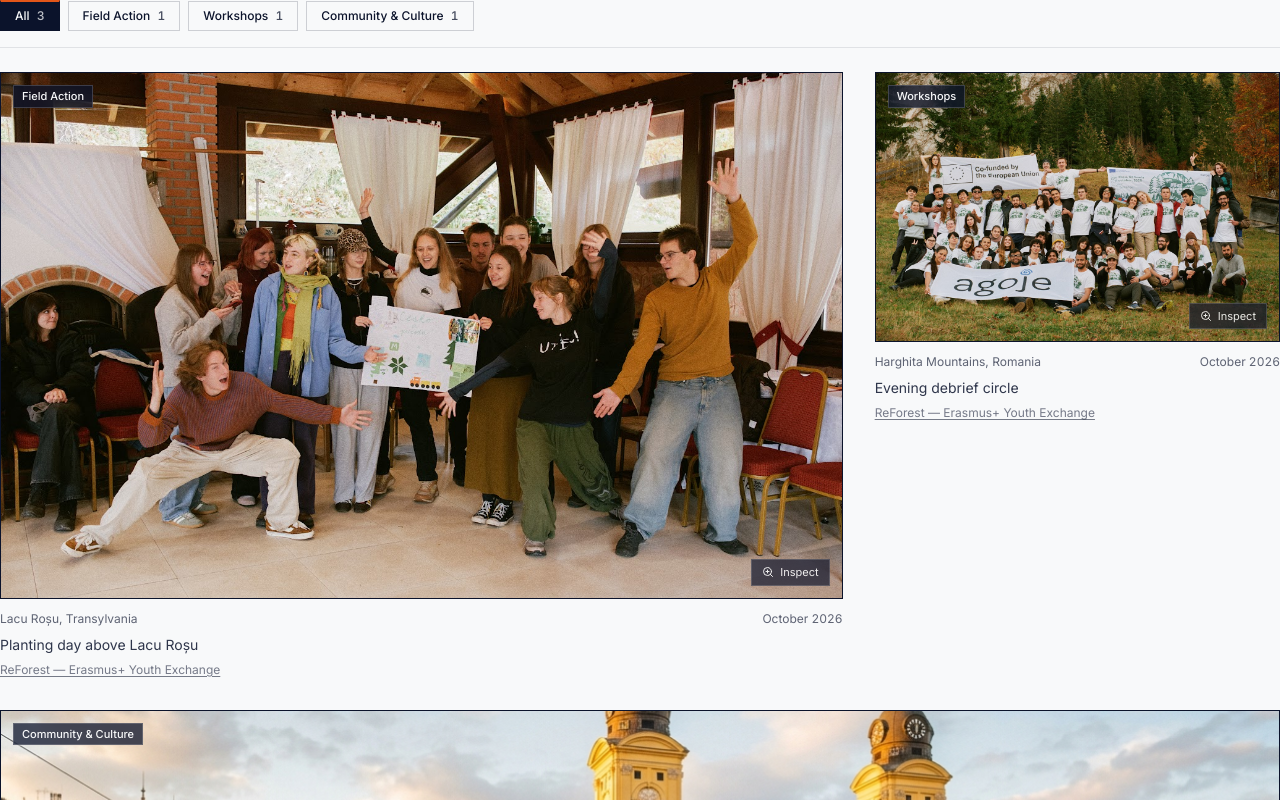
Test: Projects Partition Components › PhotoGalleryGrid › opens lightbox dialog on photo click and supports next/previous navigation
Click the button with aria-label "inspect photo: planting day above lacu roșu" at (421, 335), box [0,72,843,599]
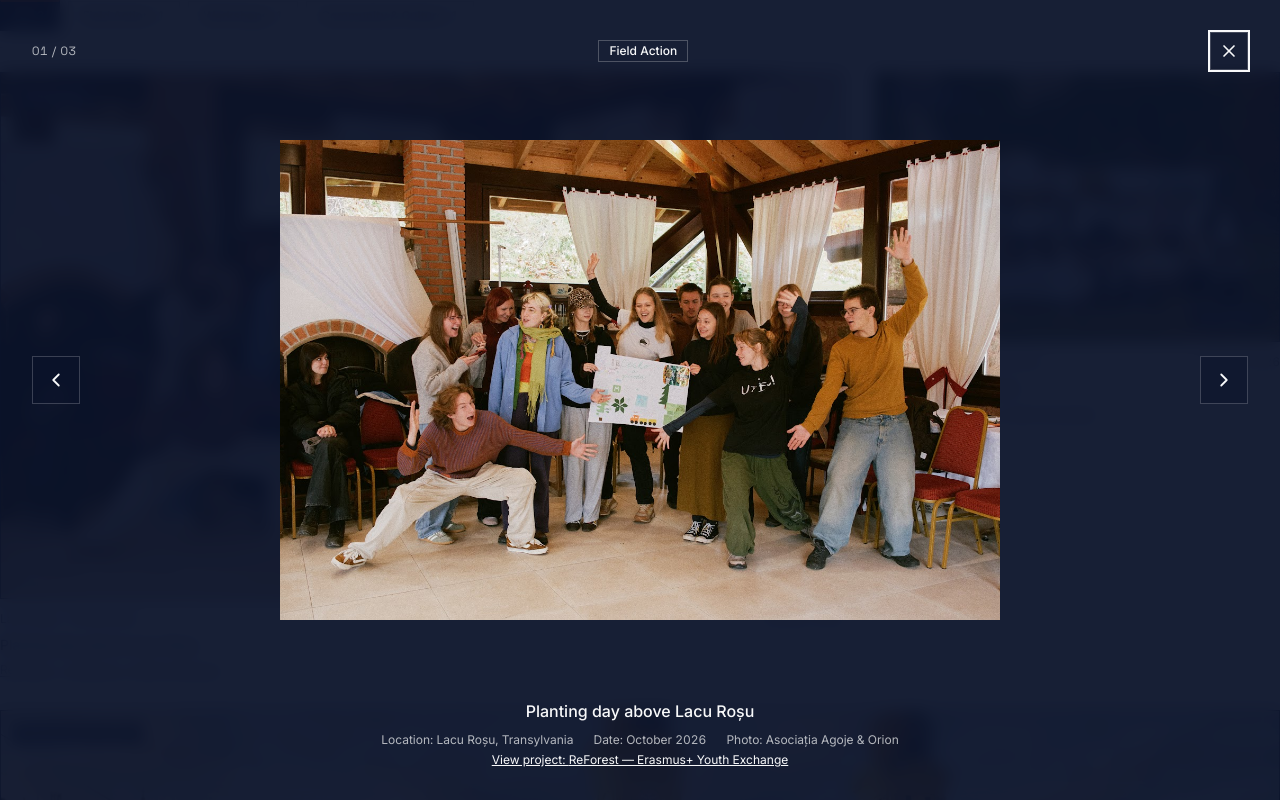
expect the dialog named "photo lightbox" is shown: met
expect the text "01 / 03" is shown: met, box [32,43,77,59]
expect the text "Location: Lacu Roșu, Transylvania" is shown: met, box [381,732,574,748]
# Click Next photo
Click the button named "next photo" at (1224, 380), box [1200,356,1248,404]
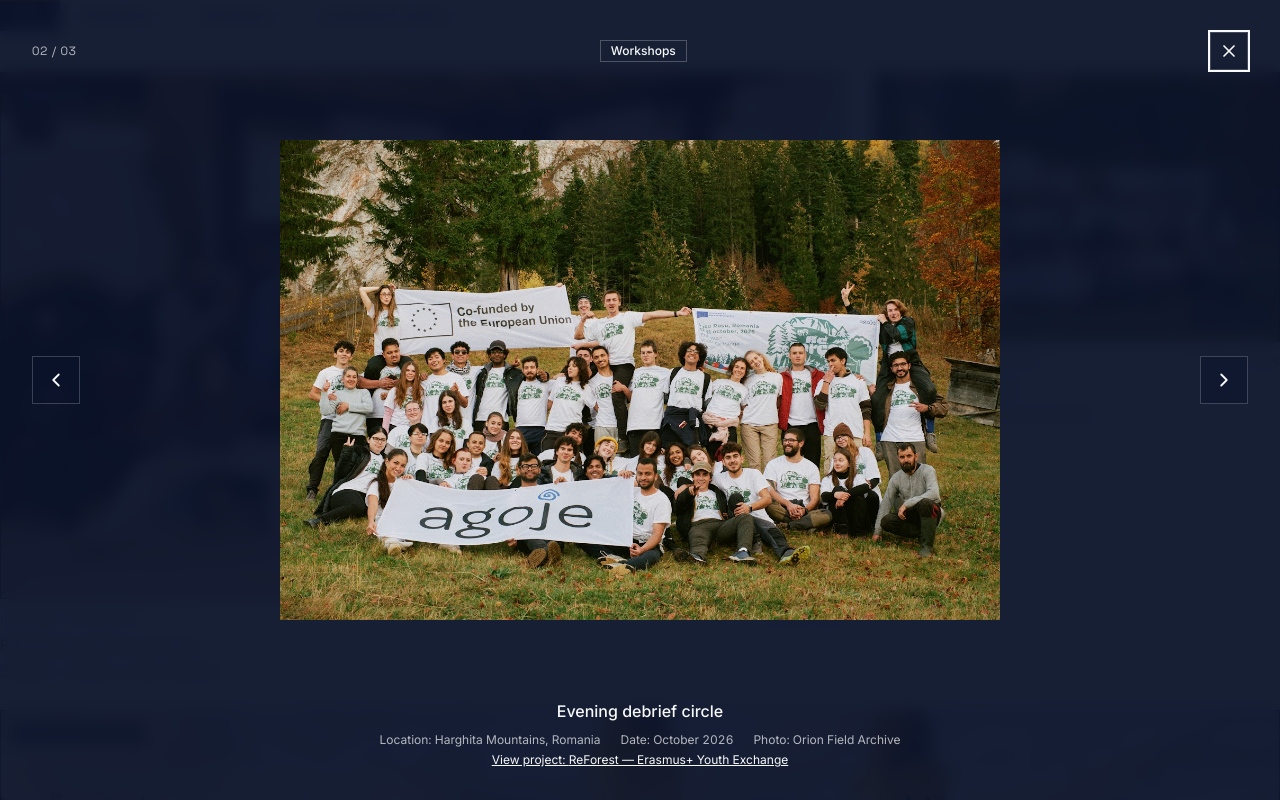
expect the text "02 / 03" is shown: met, box [32,43,77,59]
expect the text "Evening debrief circle" is shown: met, box [557,701,723,721]
# Click Previous photo
Click the button named "previous photo" at (56, 380), box [32,356,80,404]
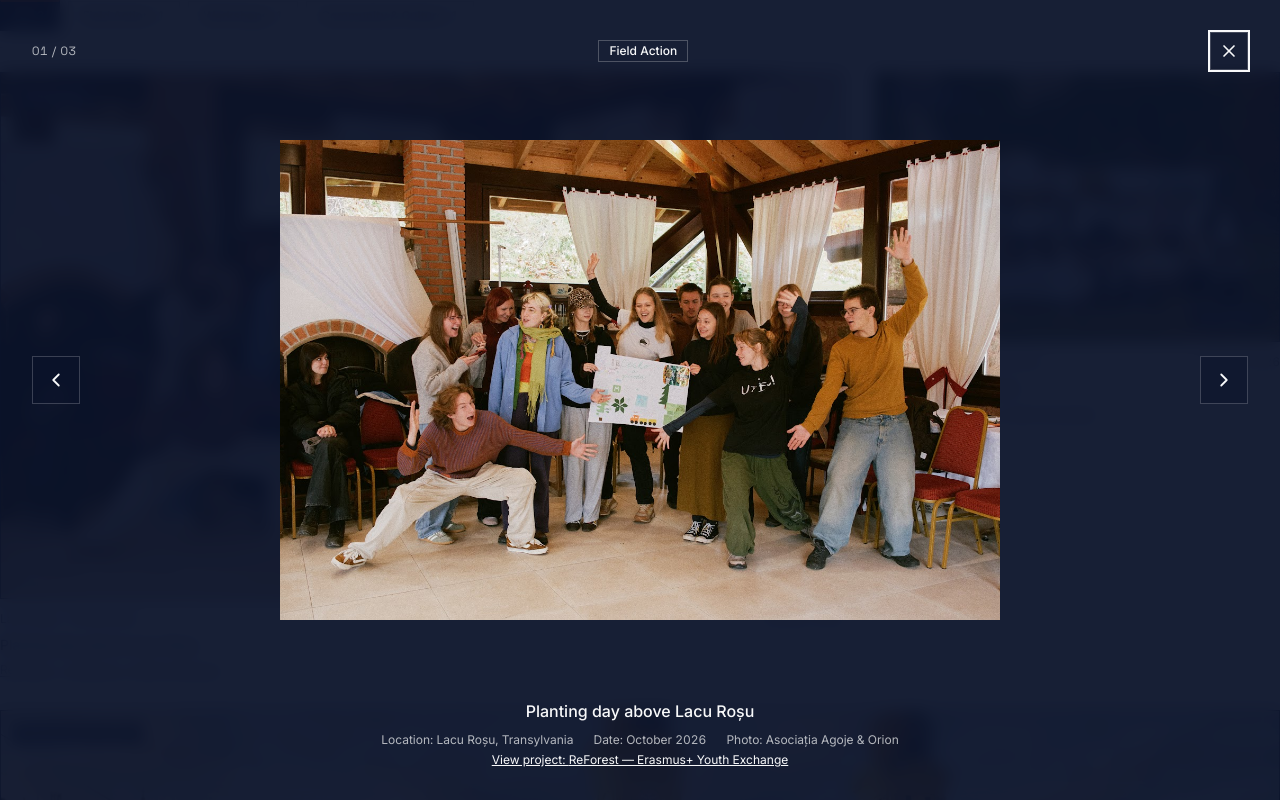
expect the text "01 / 03" is shown: met, box [32,43,77,59]
expect the text "Planting day above Lacu Roșu" is shown: met, box [526,701,754,721]
